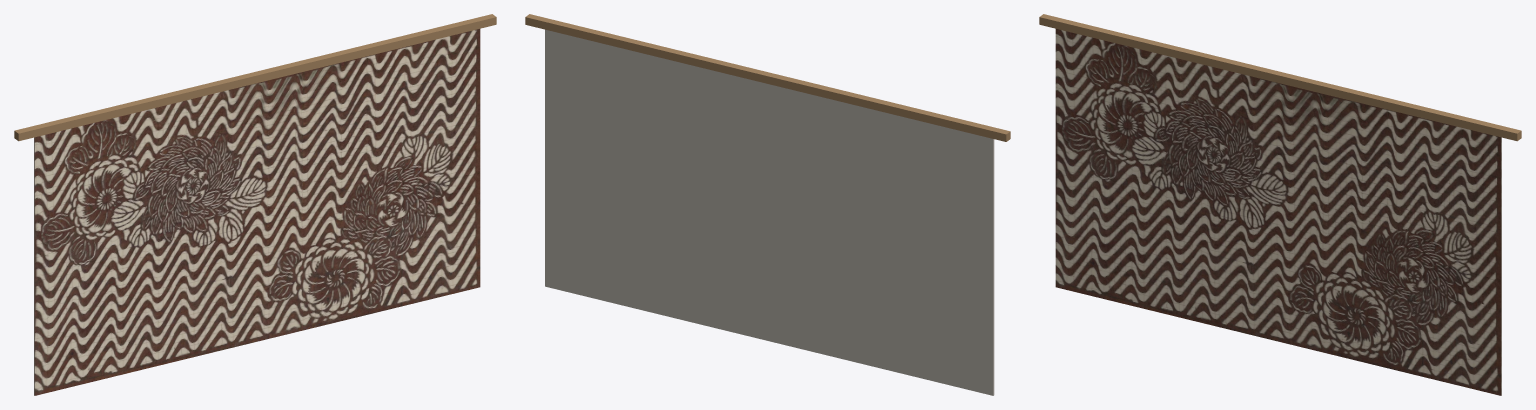
The model's file is tapestry-katagami-peonies.glb.
The picture shows the model from 3 angles, left to right: view 1: azimuth 30°, elevation 25°; view 2: azimuth 150°, elevation 25°; view 3: azimuth 330°, elevation 25°; orthographic projection.
Visible parts, largest first — view 1: tapestry-katagami-peonies; view 2: tapestry-katagami-peonies; view 3: tapestry-katagami-peonies.
Part boxes in pixels (x1,y1,x2,y2): tapestry-katagami-peonies: [14, 14, 496, 395]; tapestry-katagami-peonies: [525, 14, 1010, 395]; tapestry-katagami-peonies: [1039, 14, 1521, 395].
Size of the model in its own units: 1.18 by 0.628 by 0.018.
3 materials, 1 textured.
